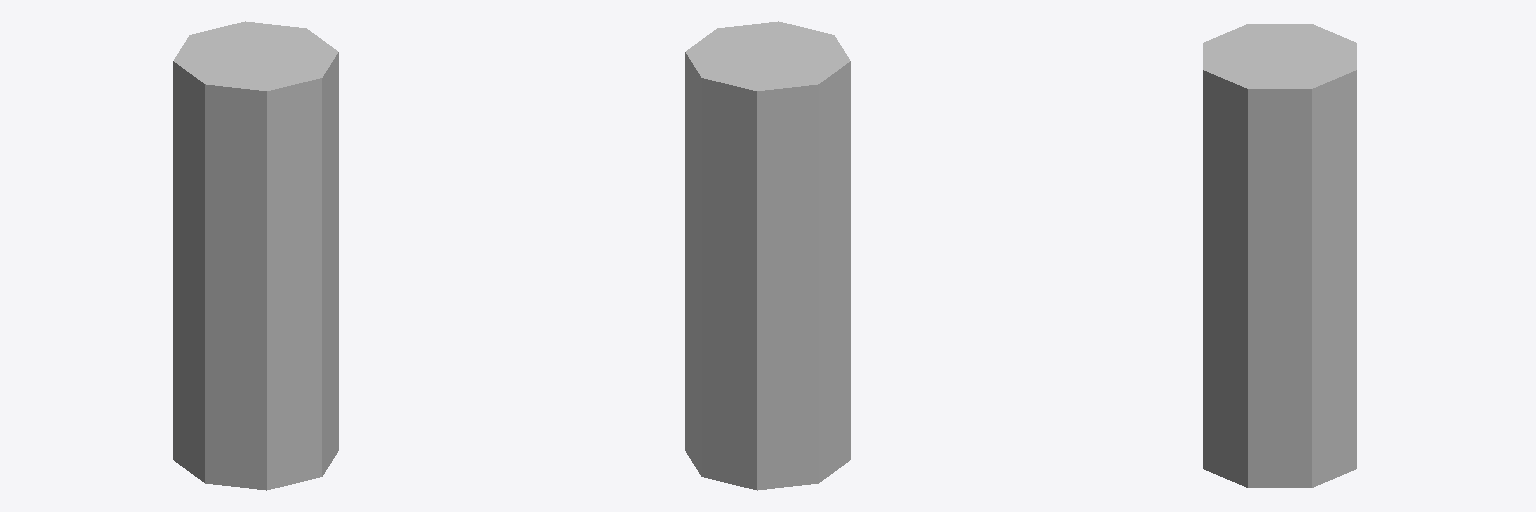
The model's file is Prop_Bridge_Log_Post_Top.obj.
3 renders of one model, left to right at view 1: azimuth 30°, elevation 25°; view 2: azimuth 150°, elevation 25°; view 3: azimuth 270°, elevation 25°, orthographic.
Visible parts, largest first — view 1: object1; view 2: object1; view 3: object1.
Part boxes in pixels (x1,y1,x2,y2): object1: (173, 21, 338, 490); object1: (685, 21, 850, 490); object1: (1203, 24, 1356, 487).
Size of the model in its own units: 0.2 by 0.5707 by 0.2.